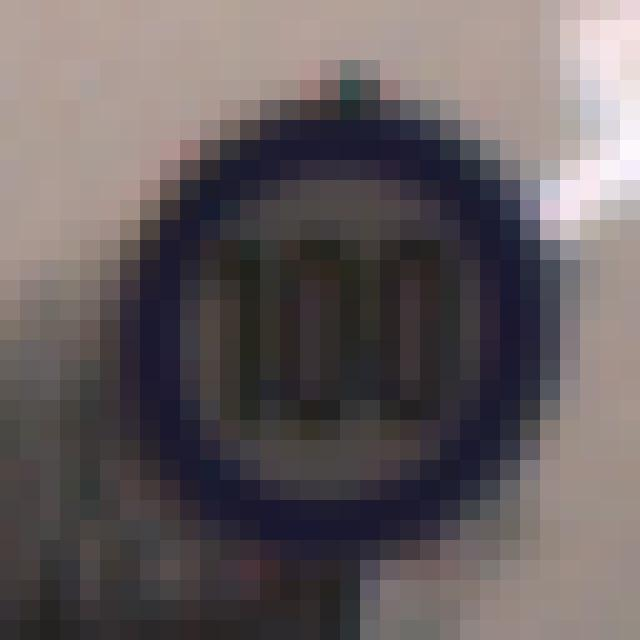SPEED LIMIT 100: (80, 97, 566, 566)
